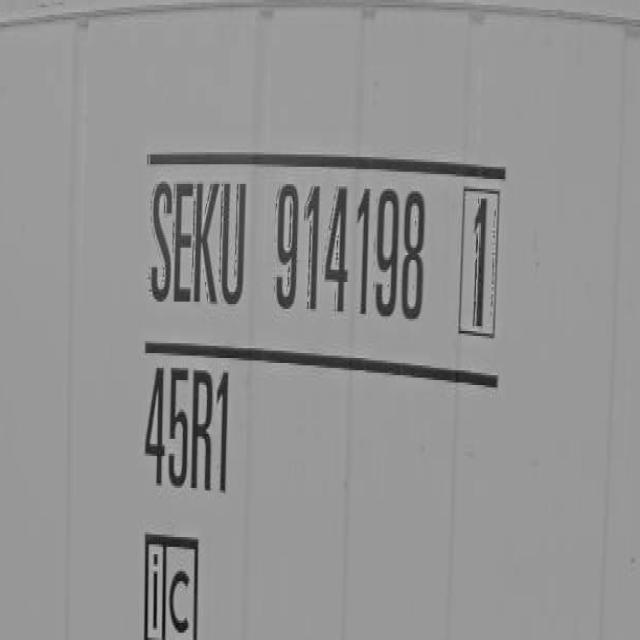dv: (458, 182, 509, 351)
owner: (144, 170, 254, 324)
serial: (270, 179, 431, 335)
size: (142, 362, 236, 507)
